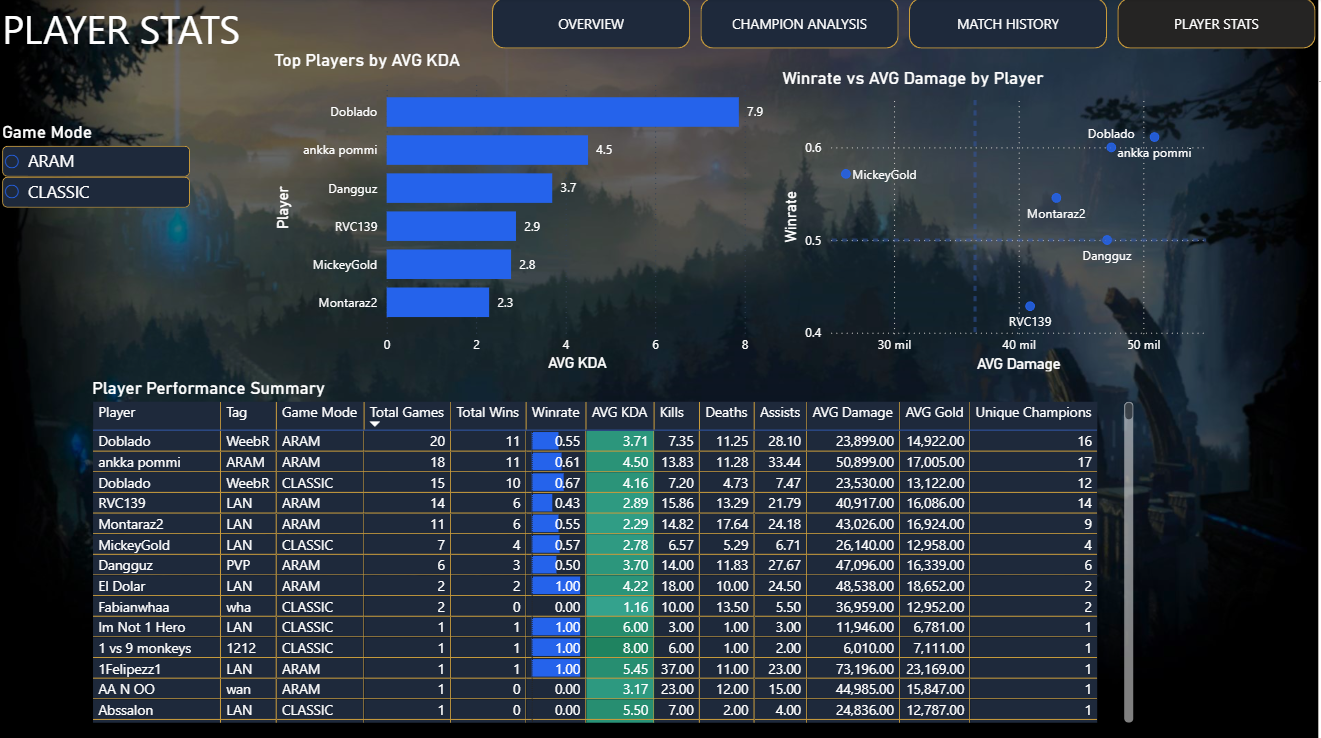

What the dashboard file says about the page in this screenshot:
{"tool":"powerbi","page":{"name":"PLAYER STATS","canvas":[1280,720],"ordinal":3},"visuals":[{"type":"tableEx","title":"Player Performance Summary","fields":{"Values":["player_stats.riot_id_game_name","player_stats.riot_id_tagline","player_stats.game_mode","Sum(player_stats.total_games)","Sum(player_stats.total_wins)","player_stats.Player Winrate","Sum(player_stats.avg_kda)","Sum(player_stats.avg_kills)","Sum(player_stats.avg_deaths)","Sum(player_stats.avg_assists)","Sum(player_stats.avg_damage)","Sum(player_stats.avg_gold)"]},"box":[87.1,367.1,1018.7,339.6],"z":0},{"type":"listSlicer","fields":{"Values":["player_stats.game_mode"]},"box":[0,119.2,192.8,154.1],"z":1000},{"type":"barChart","title":"Top Players by AVG KDA","fields":{"Y":["Sum(player_stats.avg_kda)"],"Category":["player_stats.riot_id_game_name"]},"box":[263.1,49.8,492.4,317.3],"z":2000},{"type":"scatterChart","title":"Winrate vs AVG Damage by Player","fields":{"Category":["player_stats.riot_id_game_name"],"X":["Sum(player_stats.avg_damage)"],"Y":["player_stats.Player Winrate"]},"box":[755.6,66.7,437.3,300.4],"z":3000},{"type":"textbox","box":[0,0,263.1,66.7],"z":4000},{"type":"pageNavigator","box":[480,0,800,49.8],"z":5000}]}

Visuals, with their boxes in screenshot pixels (x1, y1, x2, y2), scaled from the page's 1280x720 canvas onto the 1321x738 screenshot:
"Player Performance Summary" tableEx: (90,376,1141,724)
listSlicer - player_stats.game_mode: (0,122,199,280)
"Top Players by AVG KDA" barChart: (272,51,780,376)
"Winrate vs AVG Damage by Player" scatterChart: (780,68,1231,376)
textbox: (0,0,272,68)
pageNavigator: (495,0,1320,51)
